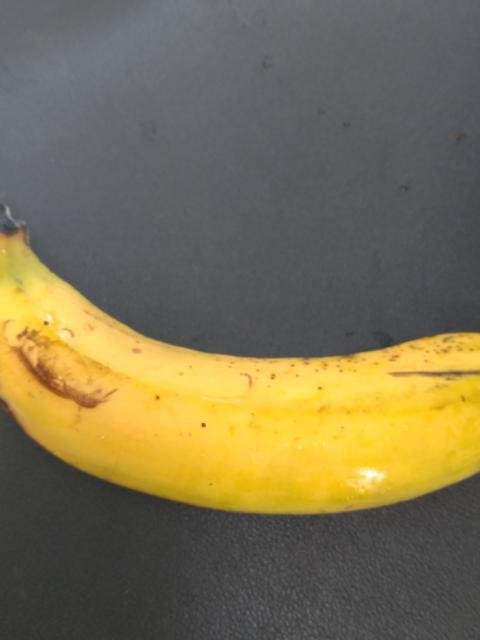ripe: (5, 227, 479, 527)
